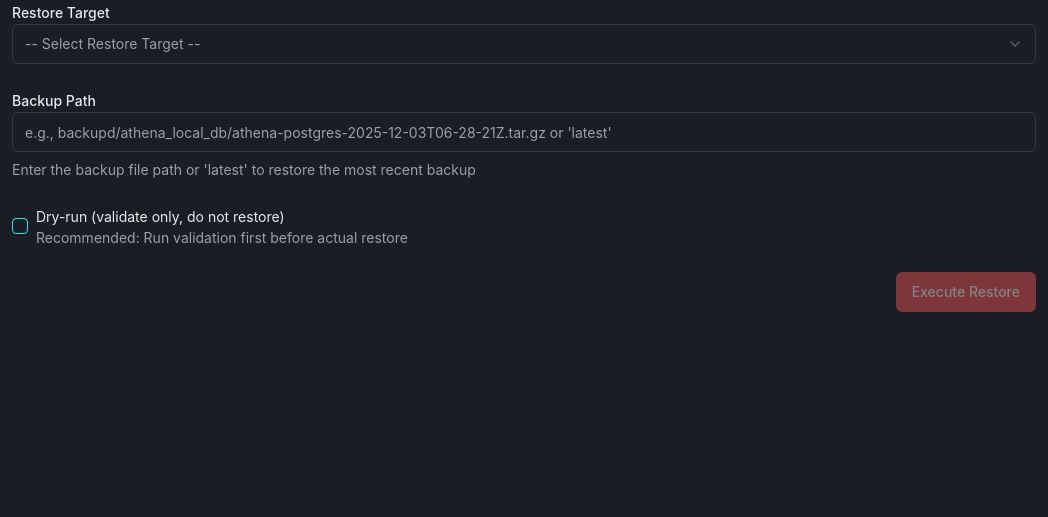
Test case: RestoreForm Component › resets form after successful restore
Fill form
Click the dropdown labelled "-- Select Restore Target --" at [113, 44], box [12,24,1036,64]
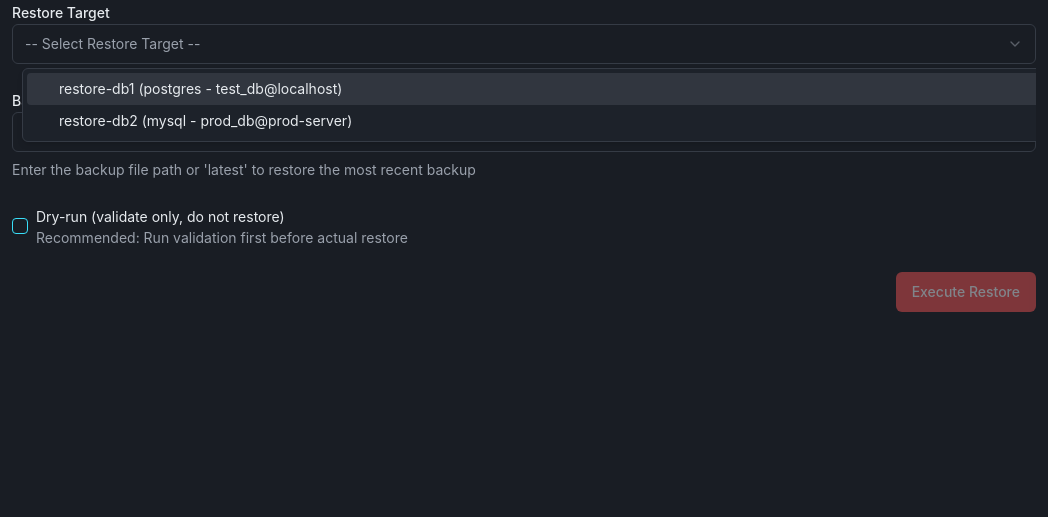
Click the option "restore-db1 (postgres - test_db@localhost)" at [97, 88], box [27,73,1036,105]
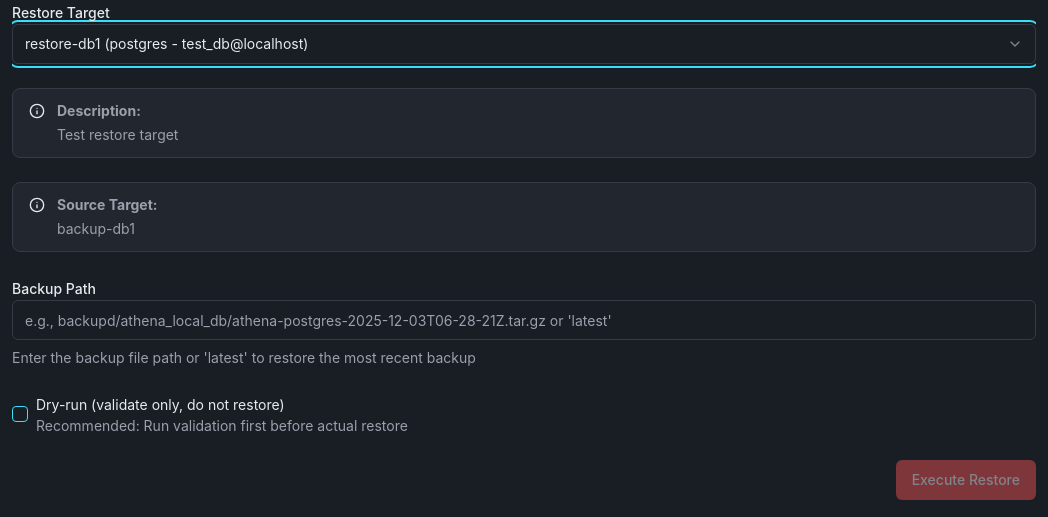
Type "/backups/test.sql" into the dropdown labelled "Backup Path" at [524, 320], box [12,300,1036,340]
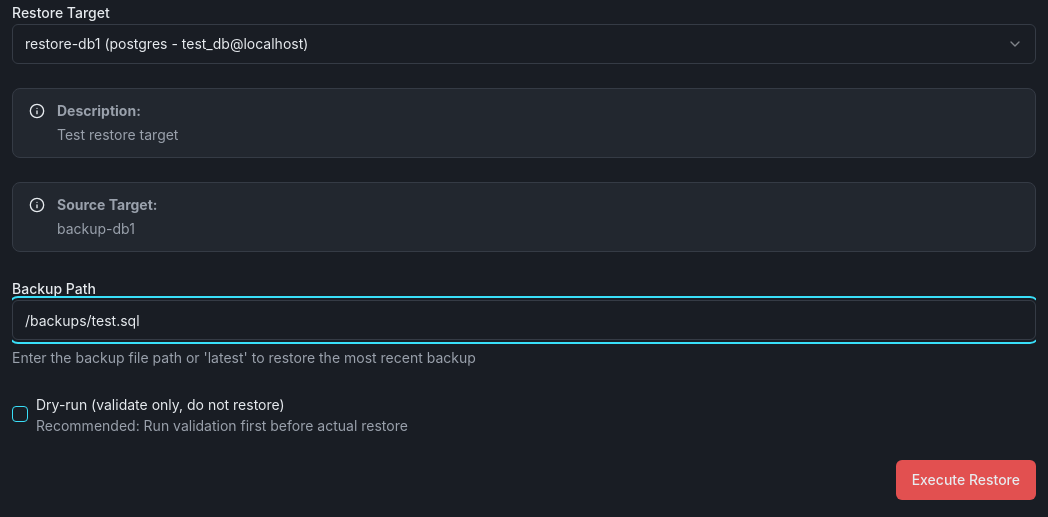
Enable dry-run and submit
Click the checkbox named "dry-run" at [20, 414], box [12,406,28,422]
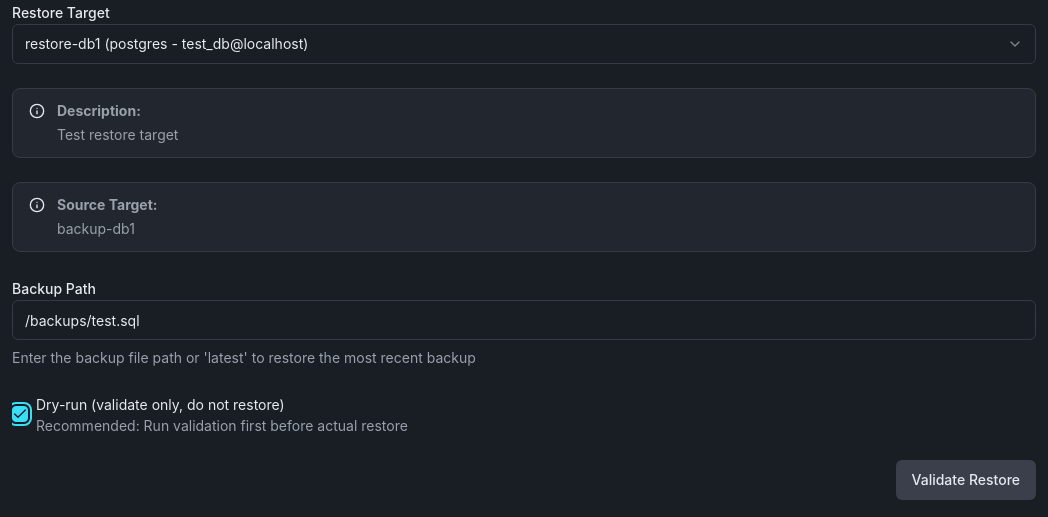
Click the button "Validate Restore" at [966, 480], box [896,460,1036,500]
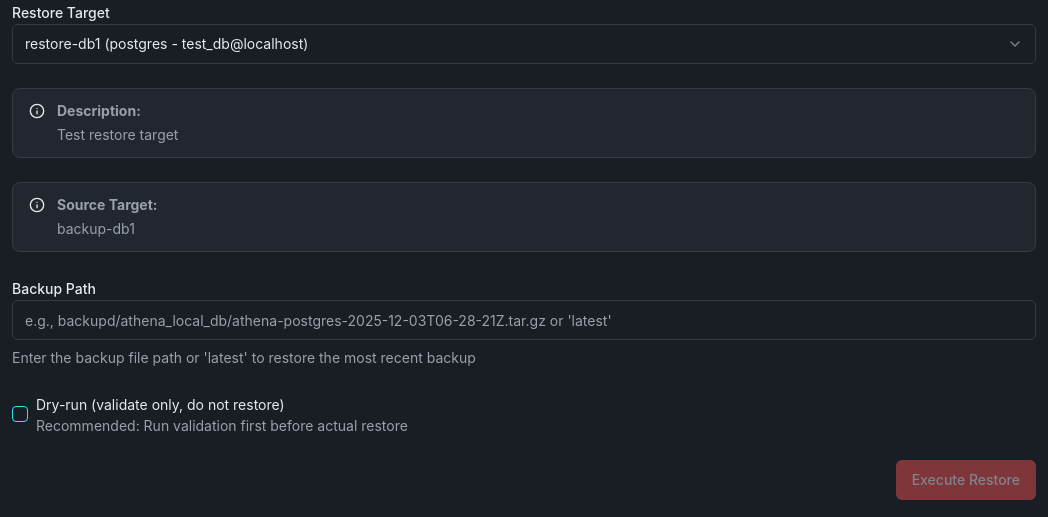
Check: the checkbox named "dry-run" is not checked, box [12,406,28,422]
Check: the dropdown labelled "Backup Path" is empty, box [12,300,1036,340]
